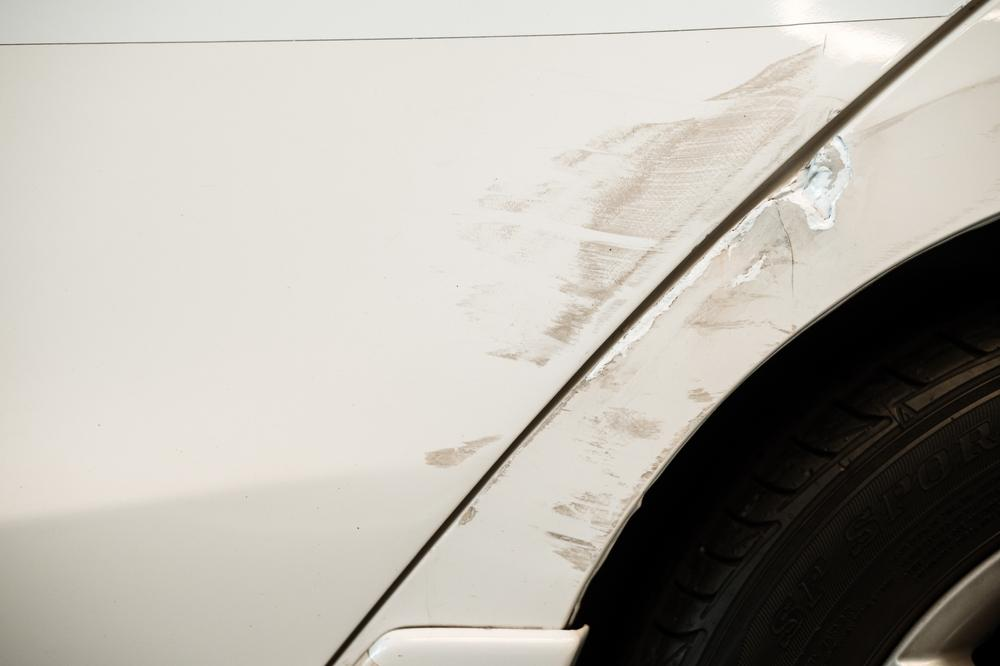scratch: (462, 121, 885, 572), (451, 41, 828, 367), (427, 434, 501, 469)
